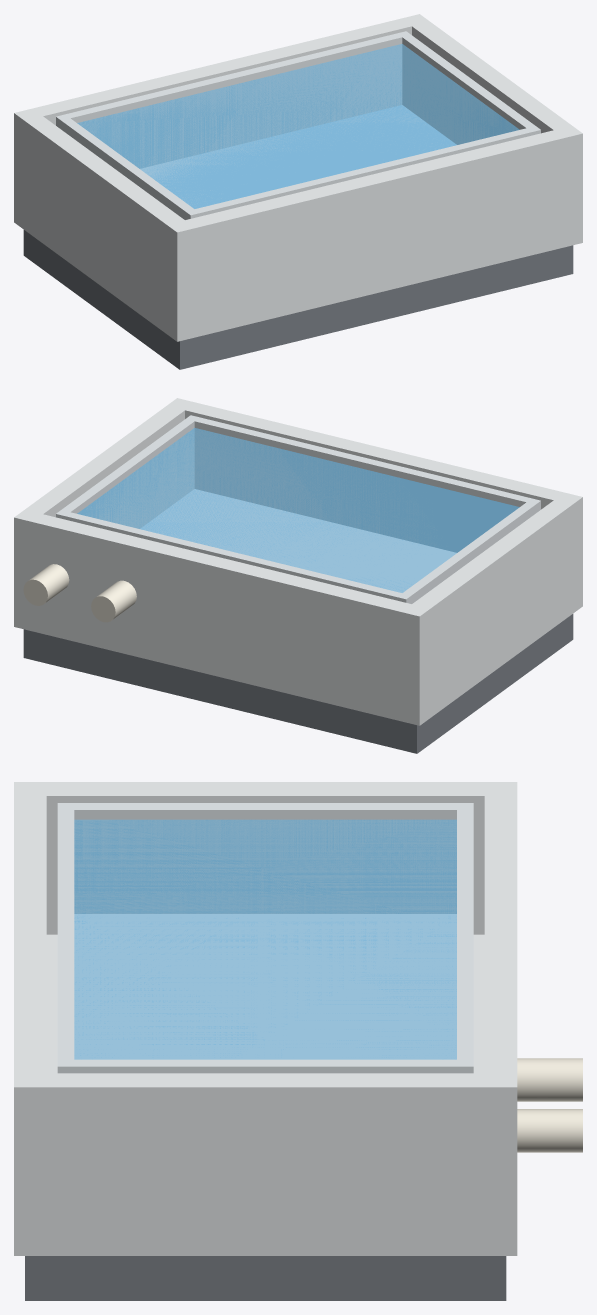
The model's file is AutofillStation.gltf.
3 views of the same model, one above another, from view 1: azimuth 30°, elevation 25°; view 2: azimuth 150°, elevation 25°; view 3: azimuth 270°, elevation 25° (orthographic). The views are drawn at different scales.
Visible parts, largest first — view 1: tub, tray, liquid, pad; view 2: tub, tray, liquid, pad, fitting_1, fitting_2; view 3: tub, tray, liquid, pad, fitting_1, fitting_2.
Boxes of the visible parts, left/top/right/bottom form: tub: left=14, top=14, right=582, bottom=341; tray: left=56, top=31, right=540, bottom=219; liquid: left=77, top=44, right=519, bottom=208; pad: left=23, top=230, right=573, bottom=369; tub: left=14, top=398, right=582, bottom=725; tray: left=56, top=415, right=540, bottom=603; liquid: left=77, top=428, right=519, bottom=592; pad: left=23, top=614, right=573, bottom=753; fitting_1: left=91, top=580, right=136, bottom=622; fitting_2: left=23, top=564, right=69, bottom=605; tub: left=14, top=782, right=517, bottom=1255; tray: left=57, top=803, right=473, bottom=1073; liquid: left=74, top=819, right=456, bottom=1059; pad: left=25, top=1256, right=506, bottom=1300; fitting_1: left=517, top=1058, right=582, bottom=1101; fitting_2: left=517, top=1109, right=582, bottom=1152.
Bounding box in the file's own units: 0.132 × 0.044 × 0.104.
